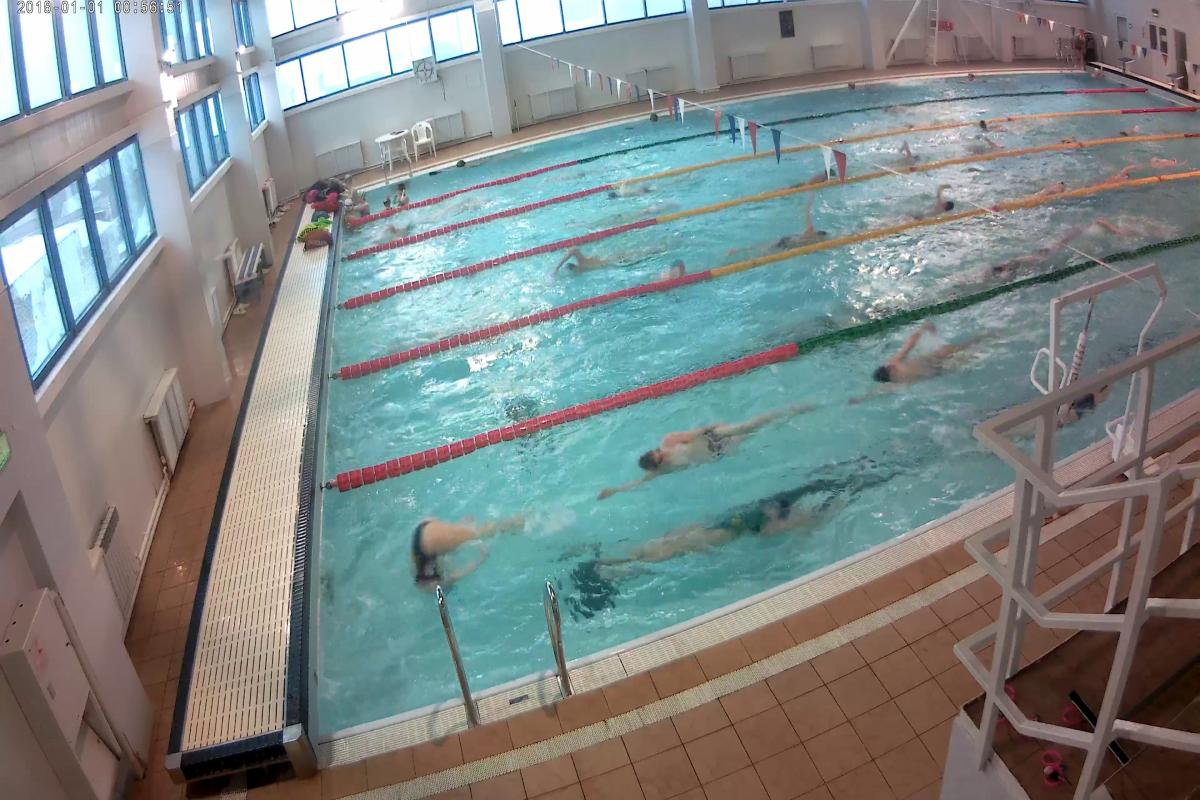swimmer: (596, 393, 784, 492), (631, 493, 816, 576), (397, 497, 528, 602), (840, 328, 974, 402), (744, 208, 836, 253), (556, 242, 640, 280), (912, 181, 961, 216), (1032, 166, 1074, 201), (788, 169, 836, 192)
